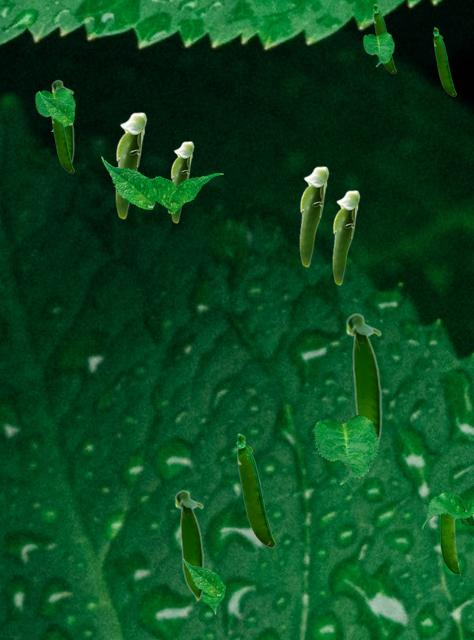pea: (345, 312, 381, 447), (236, 433, 274, 546), (115, 112, 146, 218), (174, 489, 203, 602), (299, 166, 328, 266), (332, 190, 359, 284), (170, 141, 193, 222), (51, 79, 73, 161), (373, 4, 395, 72), (433, 27, 455, 95), (51, 118, 73, 172), (440, 515, 459, 574)
